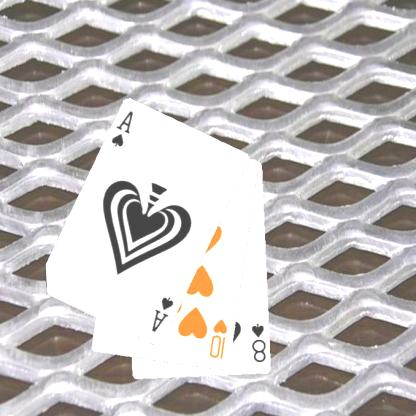10H: (207, 316, 229, 361)
8S: (249, 320, 267, 364)
AS: (149, 294, 176, 334), (109, 108, 135, 149)
